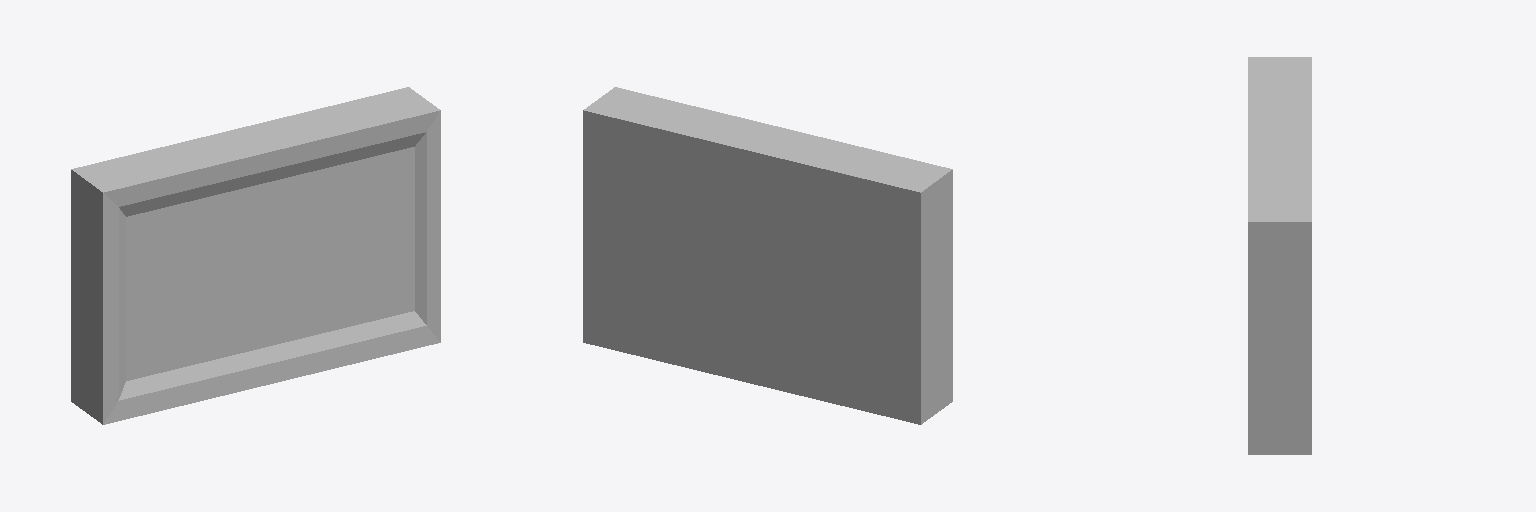
The model's file is Thermostat.obj.
The picture shows the model from 3 angles: view 1: azimuth 30°, elevation 25°; view 2: azimuth 150°, elevation 25°; view 3: azimuth 270°, elevation 25°; orthographic projection.
Visible parts, largest first — view 1: Thermostat.obj; view 2: Thermostat.obj; view 3: Thermostat.obj.
Part boxes in pixels (bbox=[...]): Thermostat.obj: bbox=[71, 87, 440, 424]; Thermostat.obj: bbox=[583, 87, 952, 424]; Thermostat.obj: bbox=[1248, 57, 1311, 454].
Bounding box in the file's own units: 0.1159 × 0.0762 × 0.0191.